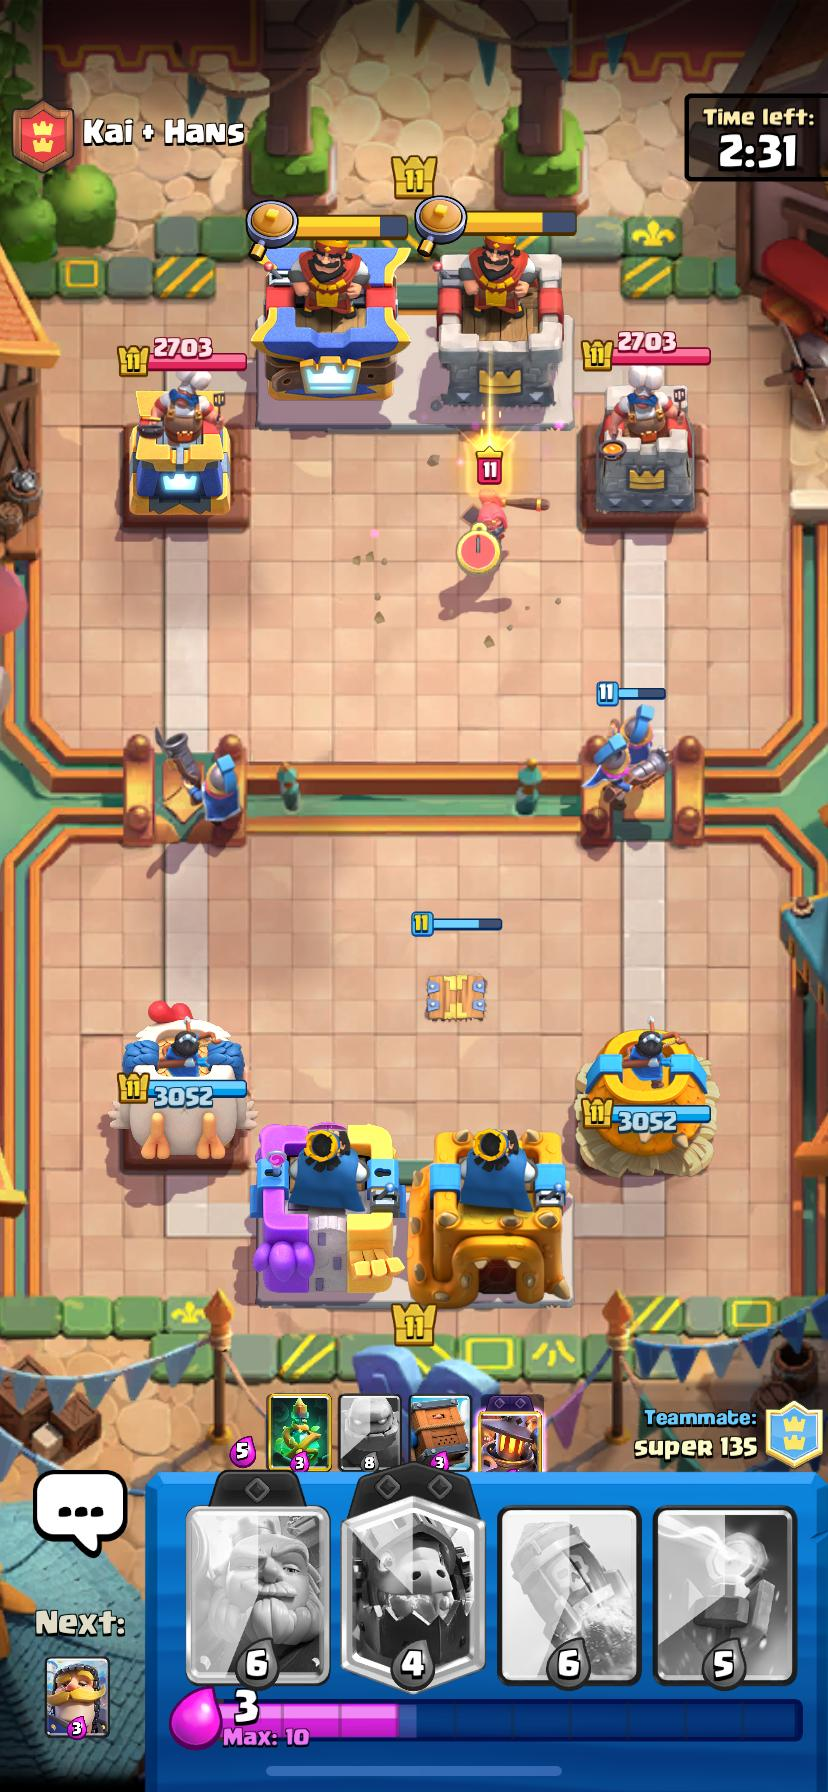EBossBandit: (457, 496, 548, 574)
EKingTower: (252, 239, 409, 399), (436, 245, 570, 408)
EnemyPanTower: (589, 367, 694, 523), (130, 374, 229, 520)
OMuskNew: (201, 738, 244, 825), (589, 731, 632, 811), (623, 704, 653, 769)
OTesla: (425, 976, 486, 1019)
OwnKingTower: (408, 1129, 571, 1305), (252, 1123, 401, 1303)
OwnPrincessTower: (111, 1002, 255, 1160), (578, 1021, 718, 1177)
